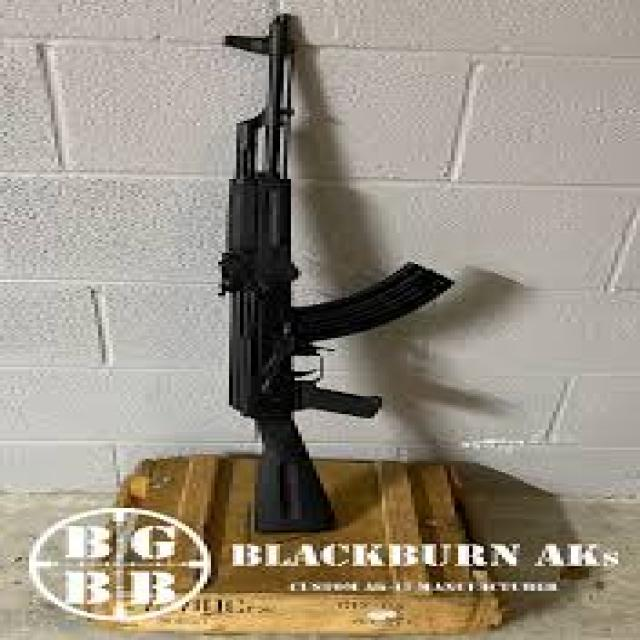AK-47 Gun: (201, 10, 460, 534)
